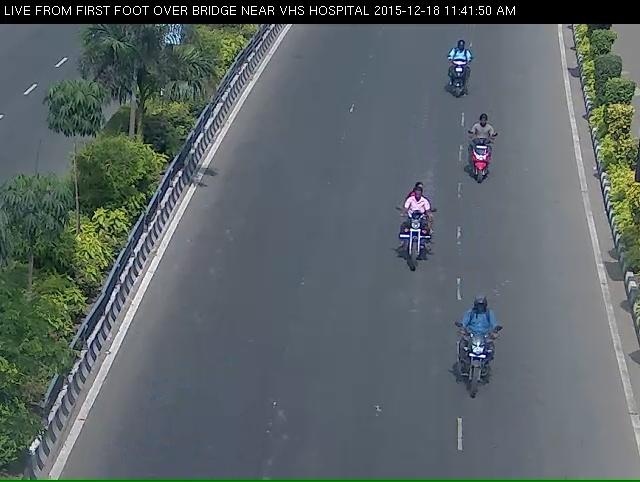Person: (451, 320, 505, 433), (463, 132, 507, 206), (398, 209, 433, 297), (445, 53, 469, 112)
